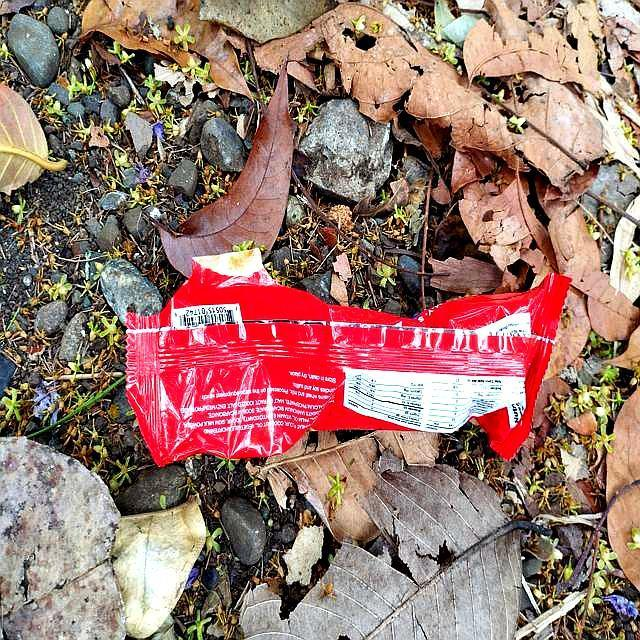Non-biodegradable: (119, 251, 574, 468)
